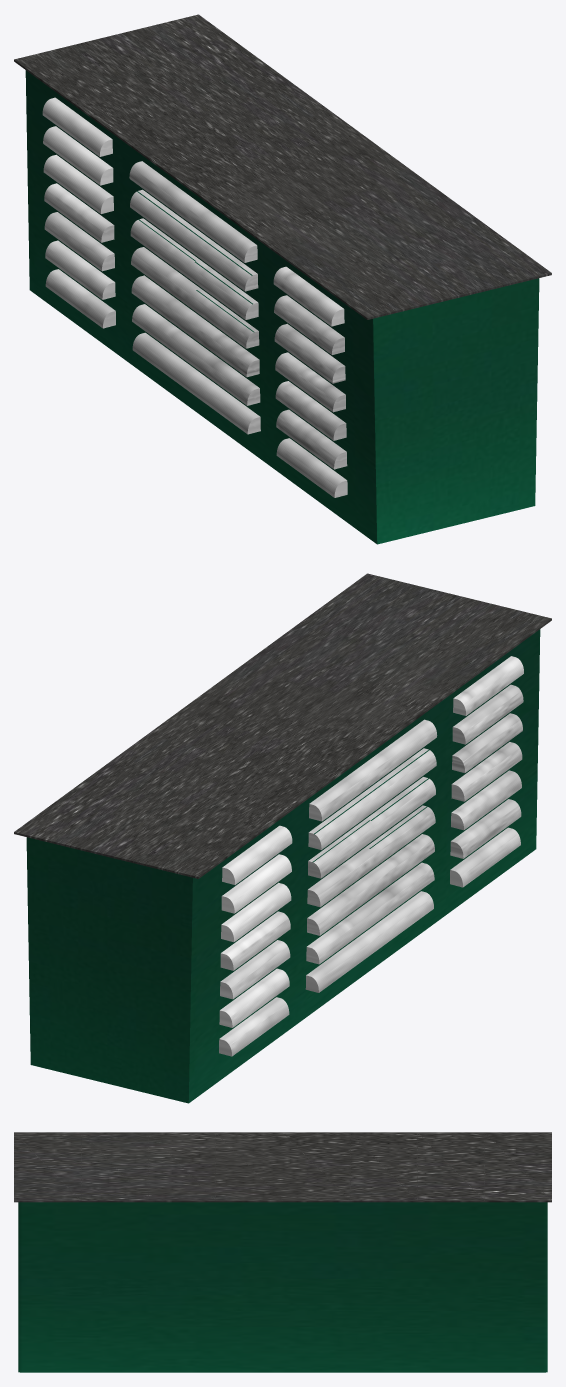
File: meja perkakas.fbx
The picture shows the model from 3 angles, top to bottom: view 1: azimuth 30°, elevation 25°; view 2: azimuth 150°, elevation 25°; view 3: azimuth 270°, elevation 25°; orthographic projection. The views are drawn at different scales.
Parts seen in each view (by area): view 1: Cube; view 2: Cube; view 3: Cube.
Part boxes in pixels (x1,y1,x2,y2): Cube: (14,14,551,544); Cube: (14,573,551,1103); Cube: (14,1132,551,1372).
Bounding box in the file's own units: 237 × 278 × 770.
3 materials, 3 textured.
